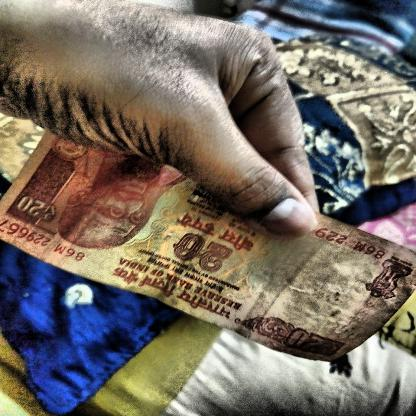Rs20: (163, 227, 242, 277), (278, 323, 347, 363), (8, 189, 66, 229)
